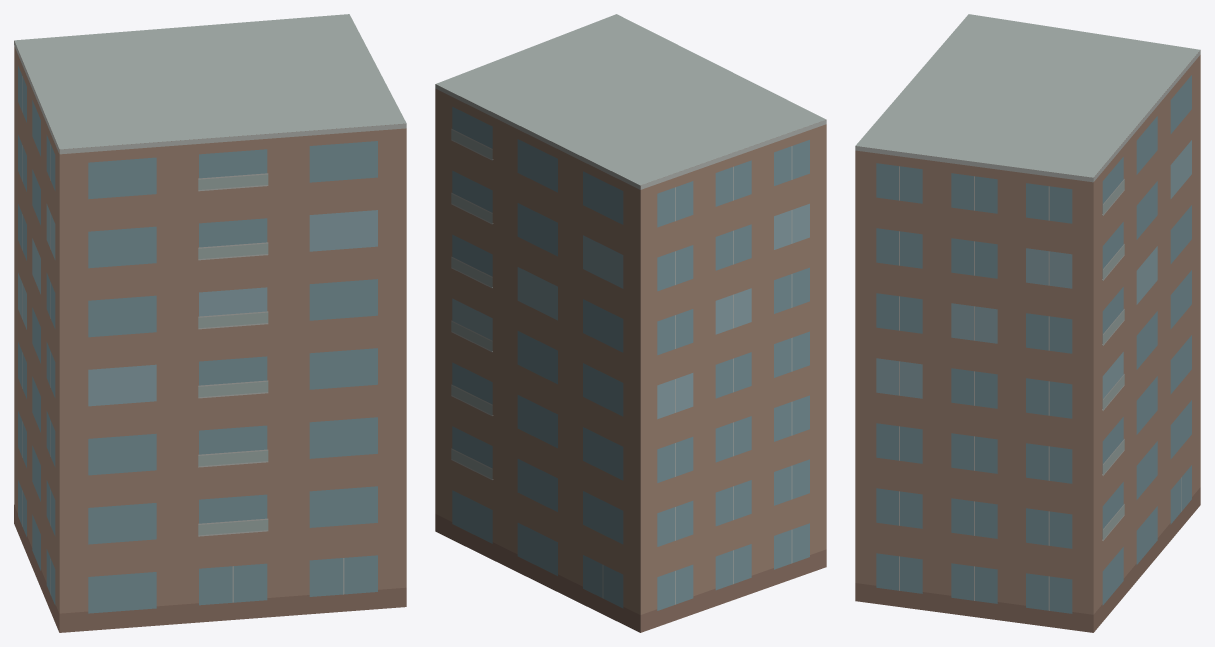
File: survey-upis-32844318.glb
3 renders of one model, left to right at view 1: azimuth 30°, elevation 25°; view 2: azimuth 150°, elevation 25°; view 3: azimuth 270°, elevation 25°, orthographic. The views are drawn at different scales.
Visible parts, largest first — view 1: survey-upis-32844318.tmp; view 2: survey-upis-32844318.tmp; view 3: survey-upis-32844318.tmp.
Boxes of the visible parts, x1,y1,x2,y2 form: survey-upis-32844318.tmp: (14,14,406,632); survey-upis-32844318.tmp: (435,14,826,632); survey-upis-32844318.tmp: (855,14,1200,632).
Size of the model in its own units: 18.6 by 24.1 by 16.58.
